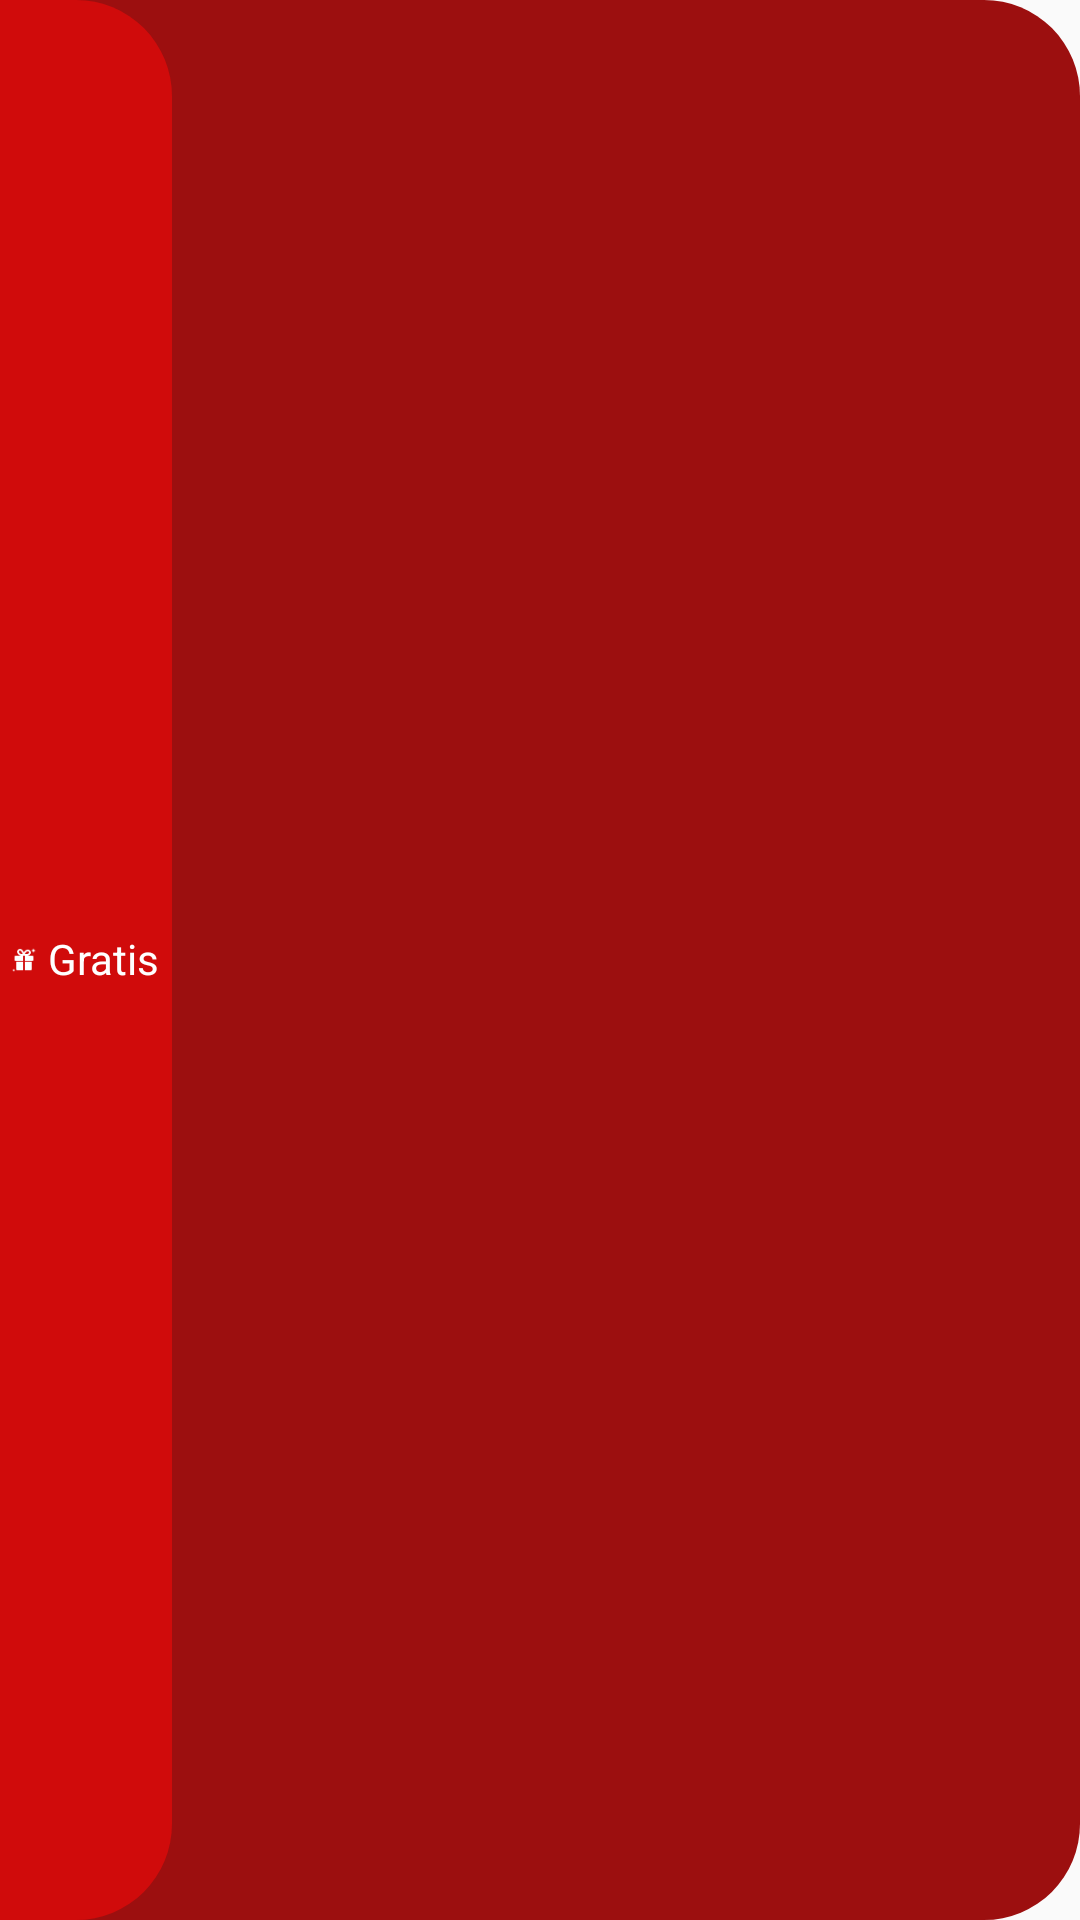

Icon click points for this 1080px×1920px phone screenshot, format (x,y):
gift: (24,960)
